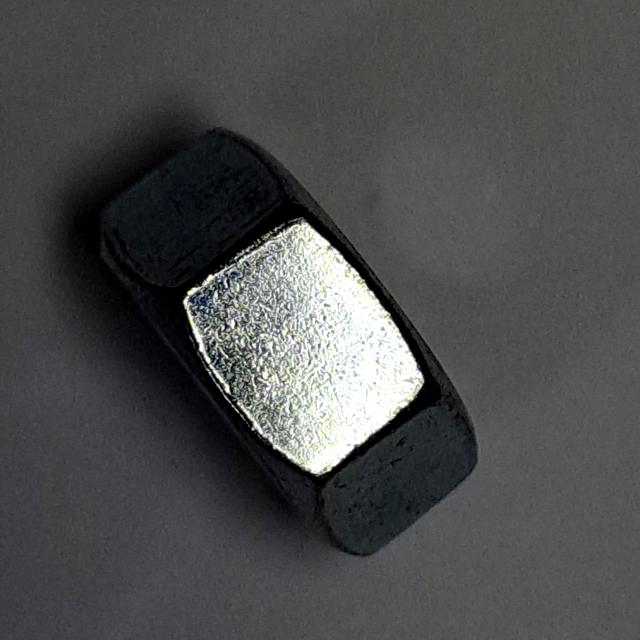Side_Excellent: (83, 106, 505, 573)
